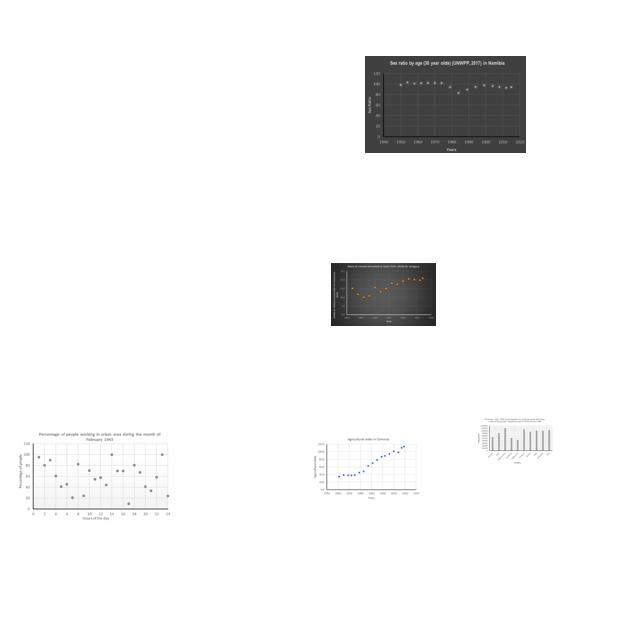Graph: (365, 56, 526, 153), (17, 430, 172, 522), (311, 435, 421, 500), (331, 263, 436, 326), (475, 417, 554, 464)
